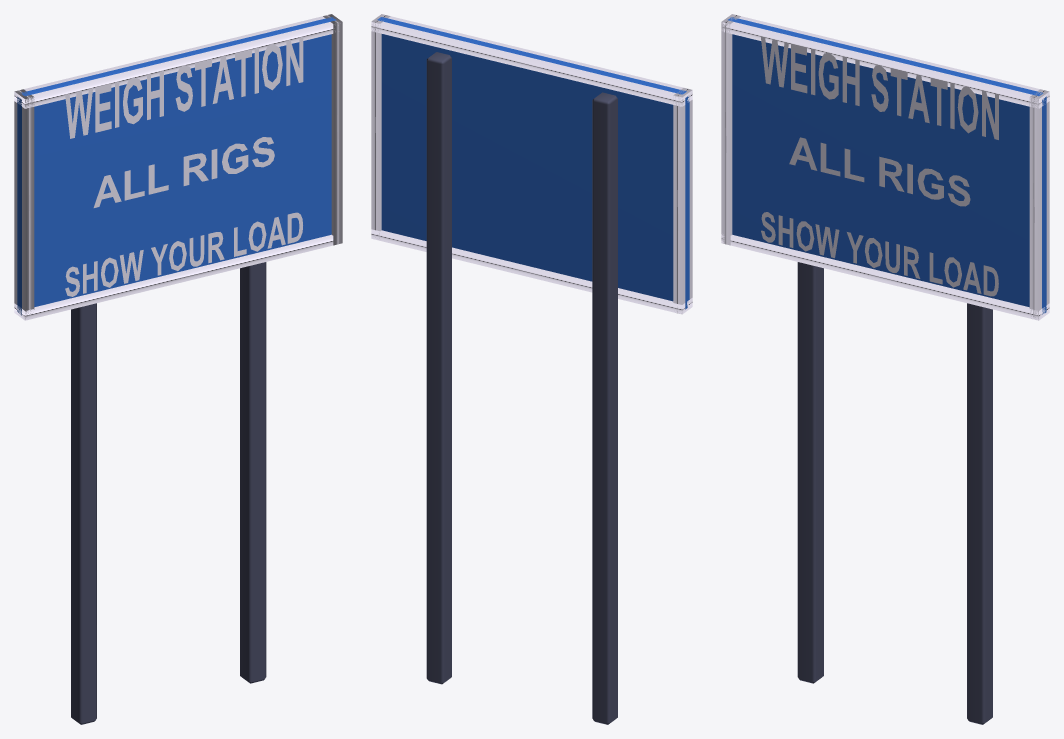
Rendered from road_sign_weigh.glb.
3 renders of one model, left to right at view 1: azimuth 30°, elevation 25°; view 2: azimuth 150°, elevation 25°; view 3: azimuth 330°, elevation 25°, orthographic. The views are drawn at different scales.
Parts seen in each view (by area): view 1: Sign; view 2: Sign; view 3: Sign.
Part boxes in pixels (bbox=[...]): Sign: bbox=[14, 14, 342, 724]; Sign: bbox=[371, 14, 692, 724]; Sign: bbox=[721, 14, 1049, 724].
Size of the model in its own units: 1.2 by 2.35 by 0.137.
